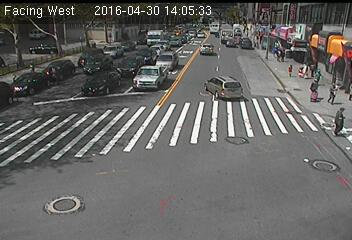neg: (48, 54, 68, 80), (87, 166, 107, 192), (323, 29, 342, 54), (138, 65, 156, 88), (258, 127, 275, 149), (90, 70, 106, 92), (213, 73, 228, 93), (197, 39, 211, 57), (295, 26, 308, 44), (260, 7, 273, 24), (229, 33, 240, 47)
pos: (330, 106, 351, 137), (326, 81, 342, 102), (310, 78, 325, 98), (314, 70, 326, 85), (287, 63, 298, 78), (278, 47, 289, 61)
